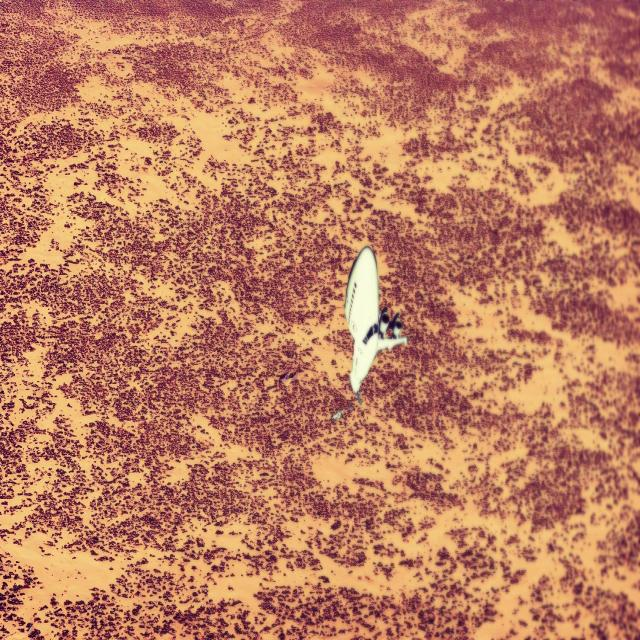airplane: (343, 244, 408, 406)
